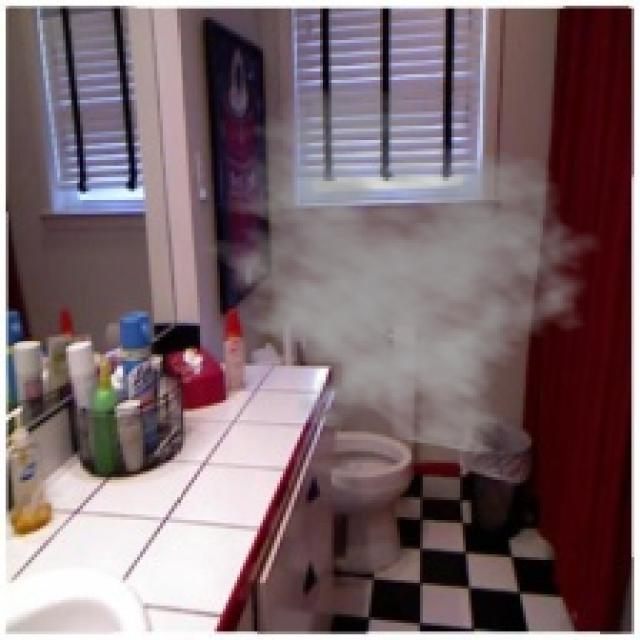smoke: (183, 83, 606, 457)
